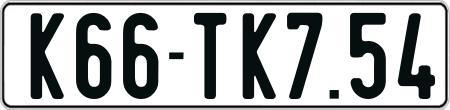4: (396, 10, 432, 102)
5: (347, 10, 386, 98)
6: (75, 10, 115, 100), (121, 13, 156, 104)
7: (284, 10, 322, 102)
K: (28, 10, 65, 99), (240, 12, 274, 98)
T: (194, 13, 228, 99)
